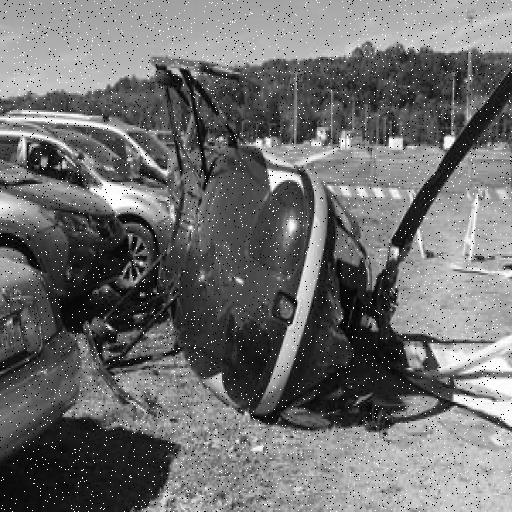helicopter: (87, 31, 512, 439)
